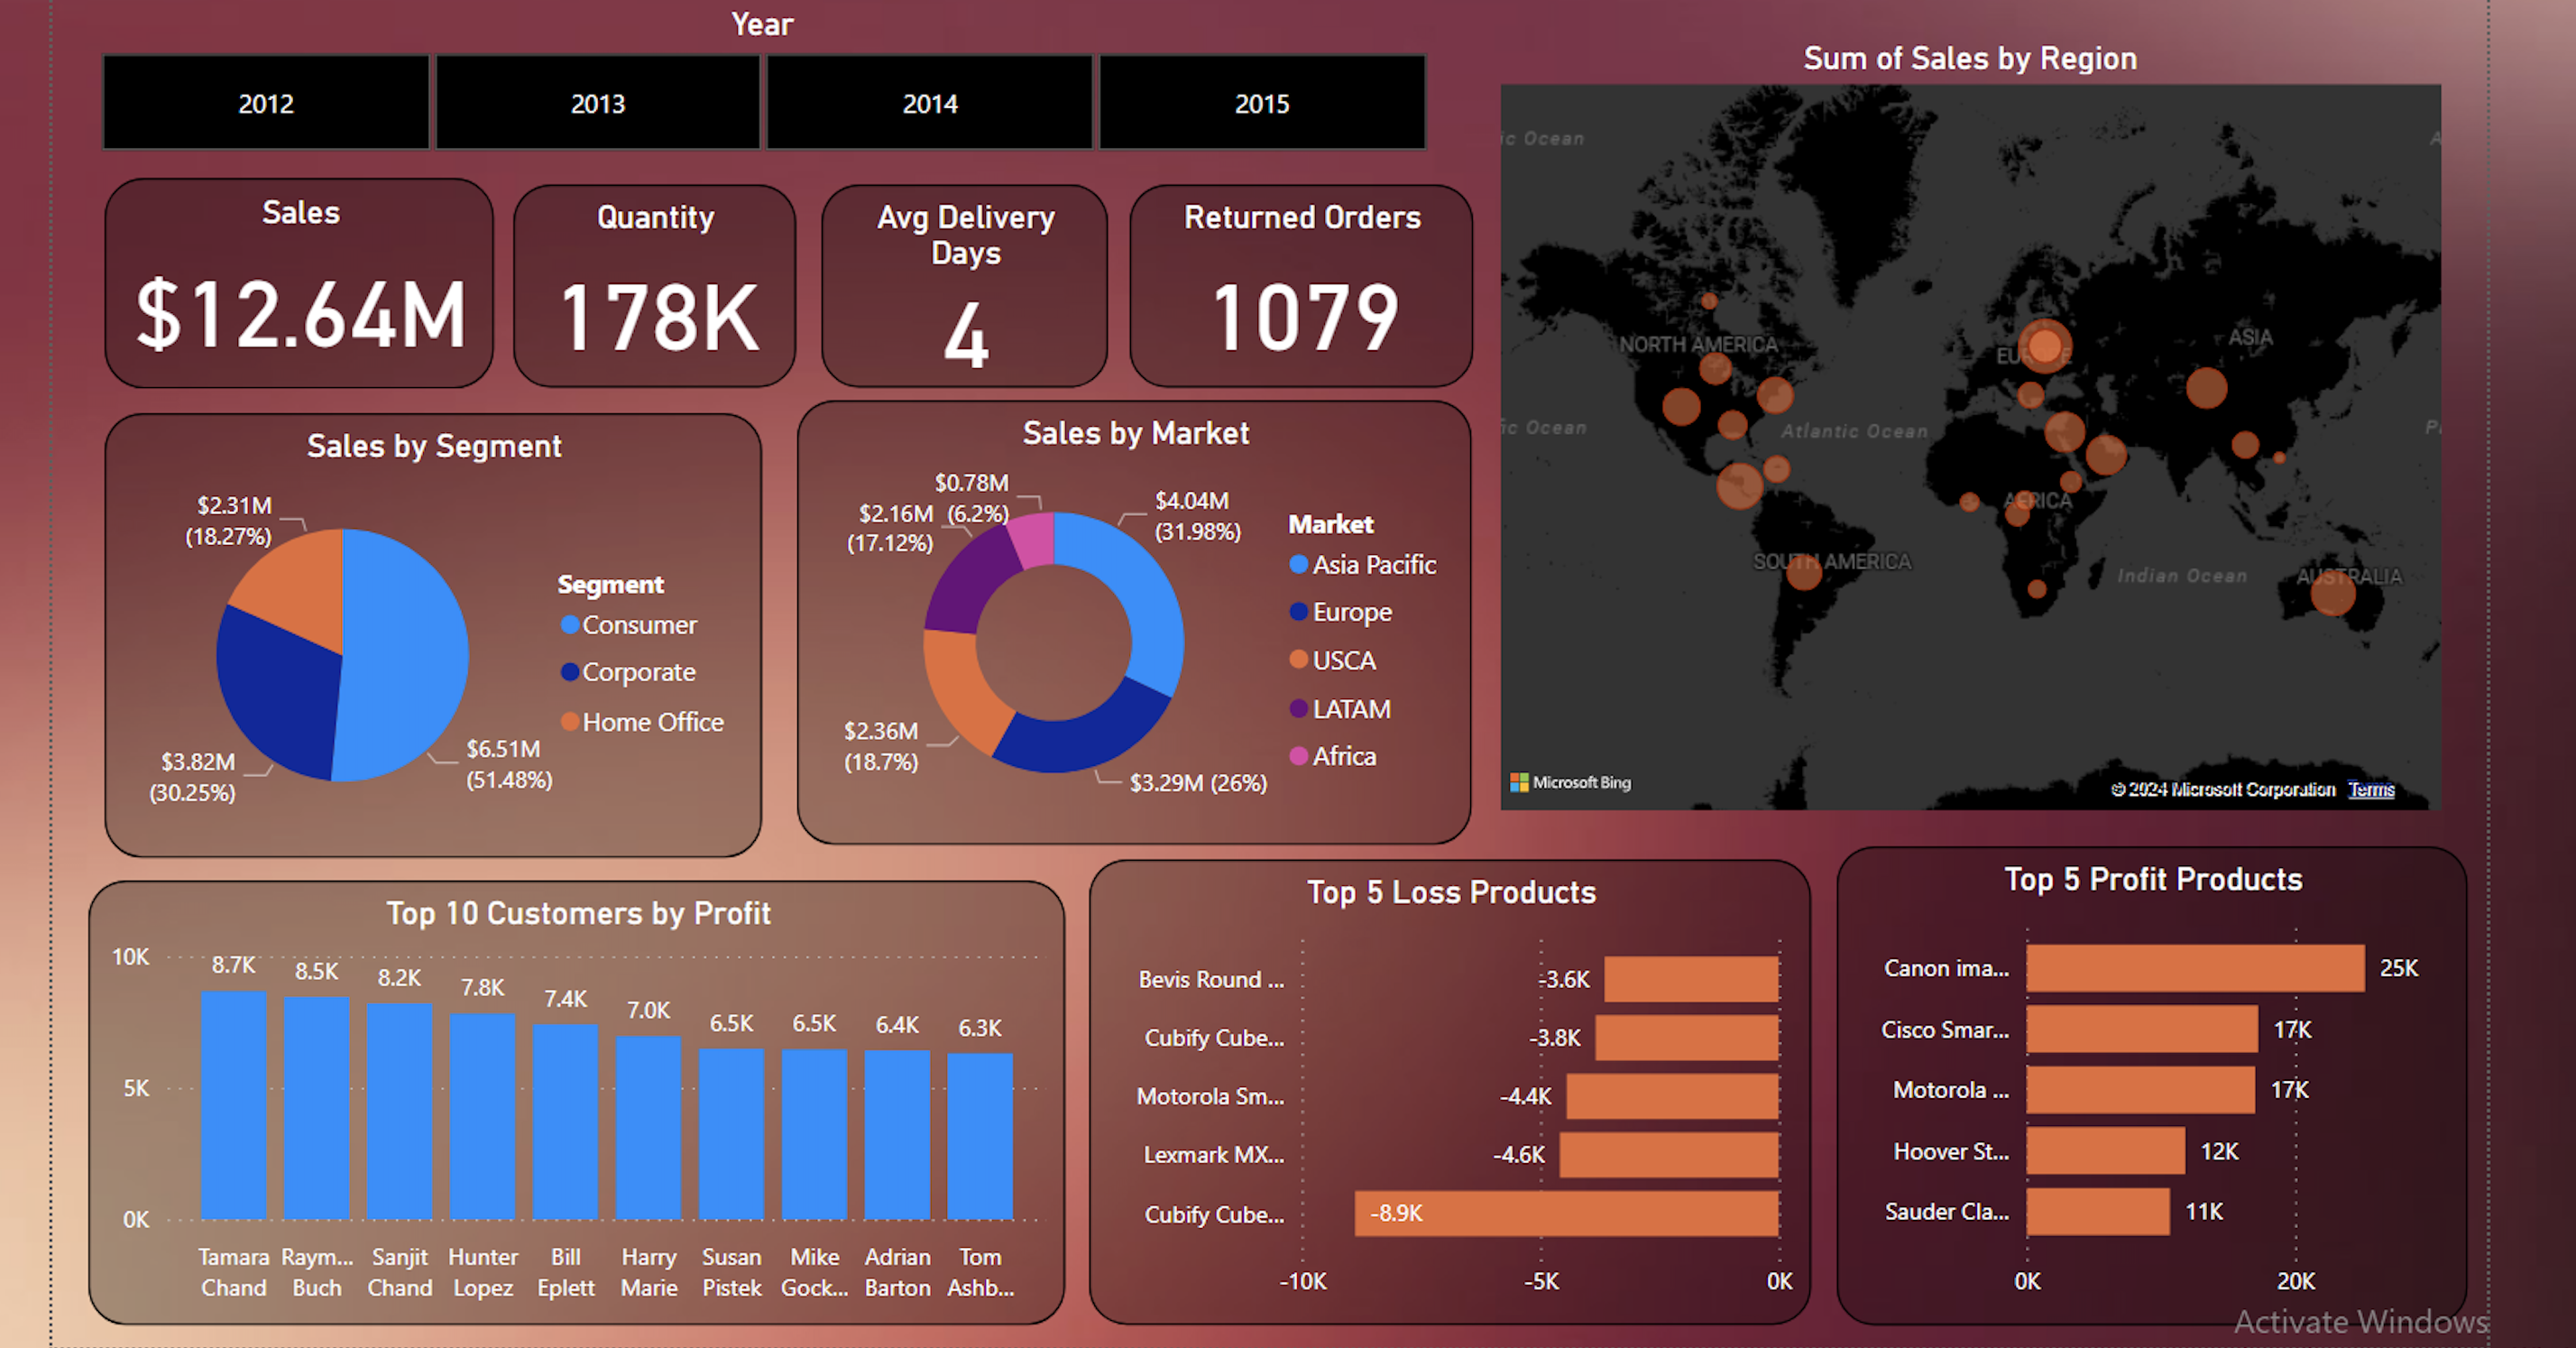

What the dashboard file says about the page in this screenshot:
{"tool":"powerbi","page":{"name":"Page 1","canvas":[1280,720],"ordinal":0},"visuals":[{"type":"card","title":"Sales","fields":{"Values":["Orders.Sales"]},"box":[27.7,105.3,205,110.8],"z":0},{"type":"card","title":"Quantity","fields":{"Values":["Orders.Quantity"]},"box":[242.7,108.6,148.5,107.5],"z":1000},{"type":"card","title":"Avg Delivery Days","fields":{"Values":["Orders.Delivery Days"]},"box":[404.5,108.6,150.7,107.5],"z":2000},{"type":"slicer","title":"Year","fields":{"Values":["Orders.Year"]},"box":[0,13.3,746.9,84.2],"z":2001},{"type":"card","title":"Returned Orders","fields":{"Values":["Returns.Return Orders"]},"box":[566.3,108.6,180.6,107.5],"z":2002},{"type":"map","fields":{"Category":["Orders.Region"],"Size":["Orders.Sales"]},"box":[757,31.5,504.6,411.3],"z":2003},{"type":"barChart","title":"Top 5 Loss Products","fields":{"Y":["Orders.Profit"],"Category":["Orders.Product Name"]},"box":[544.7,462.9,380,245.5],"z":2005},{"type":"pieChart","title":"Sales by Segment","fields":{"Category":["Orders.Segment"],"Y":["Orders.Sales"]},"box":[27.6,228.7,345.6,233.9],"z":2006},{"type":"donutChart","title":"Sales by Market","fields":{"Y":["Orders.Sales"],"Category":["Orders.Market"]},"box":[391.2,221.9,355.3,234.3],"z":2007},{"type":"barChart","title":"Top 5 Profit Products","fields":{"Y":["Orders.Profit"],"Category":["Orders.Product Name"]},"box":[938.1,456.2,331.8,252.2],"z":2008},{"type":"columnChart","title":"Top 10 Customers by Profit","fields":{"Category":["Orders.Customer Name"],"Y":["Orders.Profit"]},"box":[19.1,474.1,514.5,234.3],"z":2009}]}

Visuals, with their boxes on the page's 1280x720 design canvas (x1, y1, x2, y2). These are canvas units, not pixel positions in the 2576x1348 screenshot, which may show the page scaled, cropped or inside an application window:
"Sales" card: x1=28, y1=105, x2=233, y2=216
"Quantity" card: x1=243, y1=109, x2=391, y2=216
"Avg Delivery Days" card: x1=404, y1=109, x2=555, y2=216
"Year" slicer: x1=0, y1=13, x2=747, y2=98
"Returned Orders" card: x1=566, y1=109, x2=747, y2=216
map - Orders.Region x Orders.Sales: x1=757, y1=32, x2=1262, y2=443
"Top 5 Loss Products" barChart: x1=545, y1=463, x2=925, y2=708
"Sales by Segment" pieChart: x1=28, y1=229, x2=373, y2=463
"Sales by Market" donutChart: x1=391, y1=222, x2=746, y2=456
"Top 5 Profit Products" barChart: x1=938, y1=456, x2=1270, y2=708
"Top 10 Customers by Profit" columnChart: x1=19, y1=474, x2=534, y2=708
